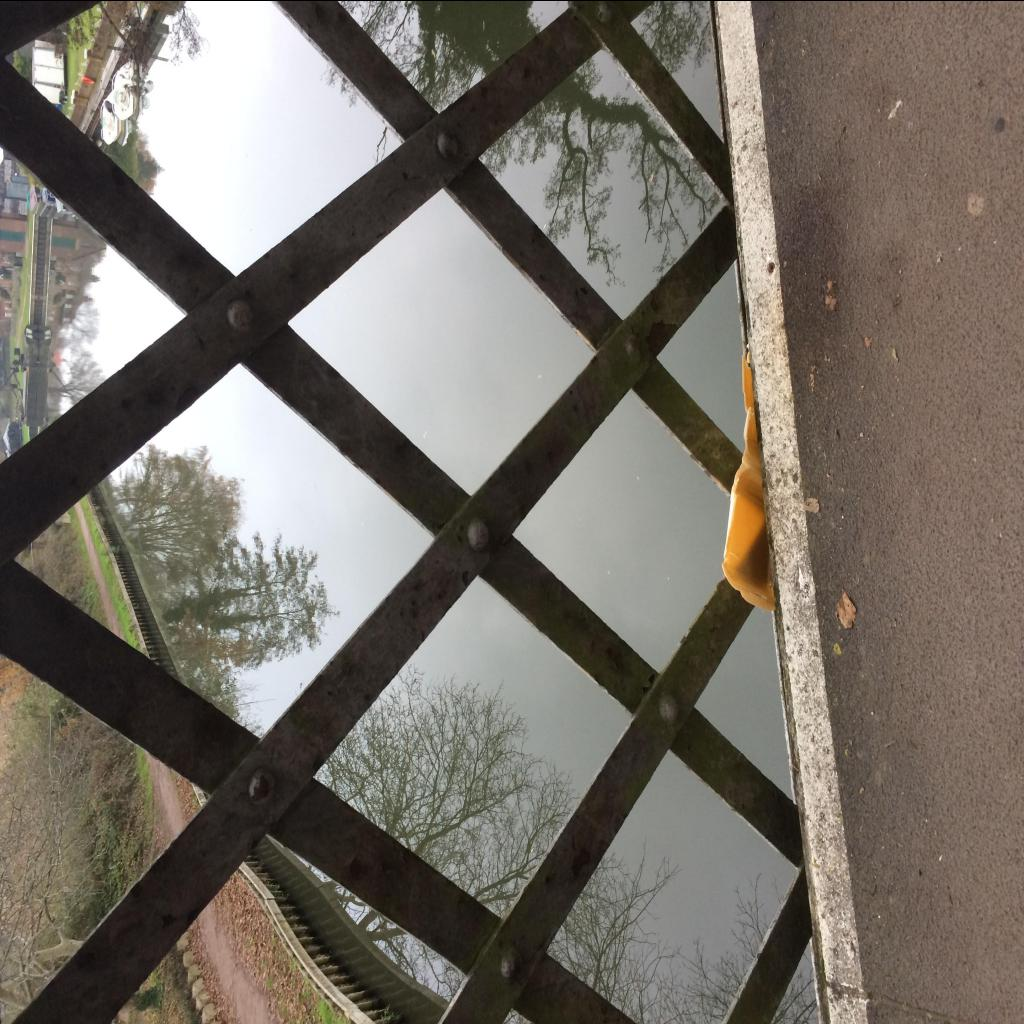Foam food container: (721, 356, 775, 610)
